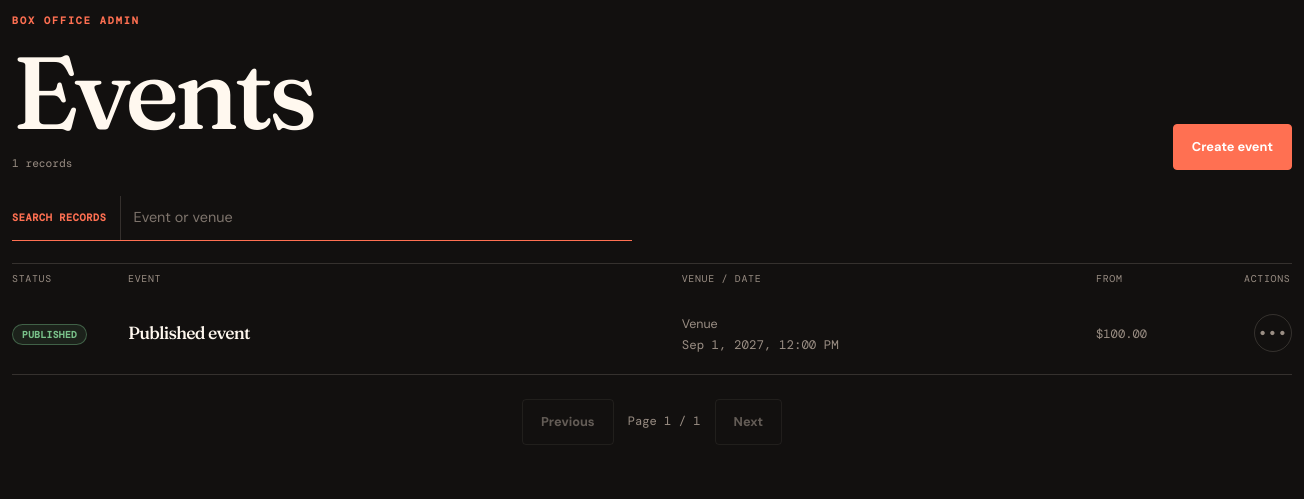
it: AdminEventsPage › shows the valid action matrix for Published
Check: the heading "Published event" is shown, box [128,322,250,343]
Click the button "•••" at (1273, 333), box [1254,314,1292,352]
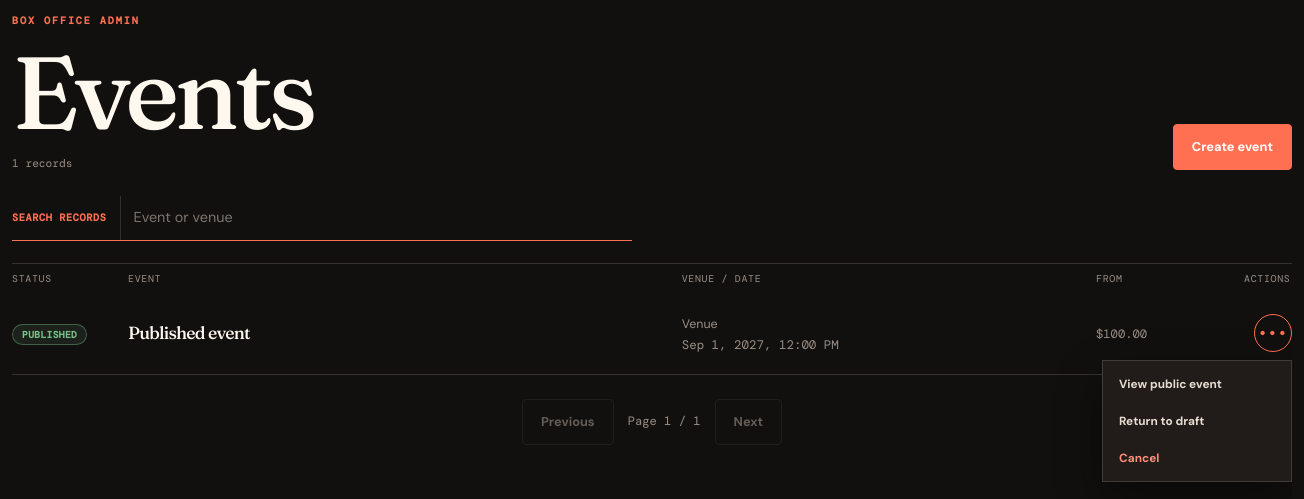
Check: the menu item "View public event" is shown, box [1119,376,1222,392]
Check: the menu item "Return to draft" is shown, box [1109,404,1285,438]
Check: the menu item "Cancel" is shown, box [1109,441,1285,475]
